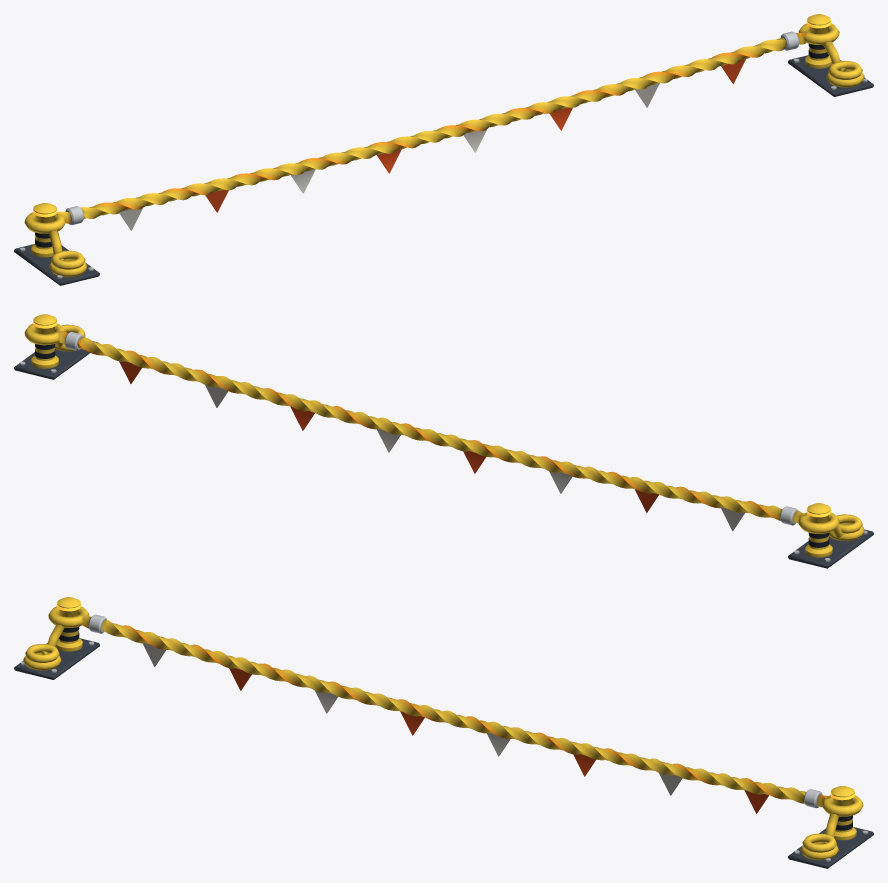
Rendered from climb-rope.glb.
3 views of the same model, one above another, from view 1: azimuth 30°, elevation 25°; view 2: azimuth 150°, elevation 25°; view 3: azimuth 330°, elevation 25° (orthographic).
Visible parts, largest first — view 1: Climb rope Rope yellow, Climb rope Anchor plate, Climb rope Rope pennant ivory, Climb rope Rope pennant orange, Climb rope Anchor steel; view 2: Climb rope Rope yellow, Climb rope Anchor plate, Climb rope Rope pennant orange, Climb rope Rope pennant ivory, Climb rope Anchor steel; view 3: Climb rope Rope yellow, Climb rope Anchor plate, Climb rope Rope pennant ivory, Climb rope Rope pennant orange, Climb rope Anchor steel.
Part boxes in pixels (bbox=[...]): Climb rope Rope yellow: bbox=[24, 14, 864, 277]; Climb rope Anchor plate: bbox=[14, 55, 873, 285]; Climb rope Rope pennant ivory: bbox=[119, 83, 659, 230]; Climb rope Rope pennant orange: bbox=[205, 59, 745, 212]; Climb rope Anchor steel: bbox=[19, 31, 867, 278]; Climb rope Rope yellow: bbox=[24, 314, 864, 557]; Climb rope Anchor plate: bbox=[14, 341, 873, 568]; Climb rope Rope pennant orange: bbox=[119, 361, 659, 512]; Climb rope Rope pennant ivory: bbox=[205, 385, 745, 530]; Climb rope Anchor steel: bbox=[19, 332, 867, 561]; Climb rope Rope yellow: bbox=[23, 597, 863, 860]; Climb rope Anchor plate: bbox=[14, 638, 873, 868]; Climb rope Rope pennant ivory: bbox=[142, 642, 682, 795]; Climb rope Rope pennant orange: bbox=[229, 668, 768, 813]; Climb rope Anchor steel: bbox=[20, 614, 868, 861].
Size of the model in its own units: 9.48 by 0.5737 by 0.94.
